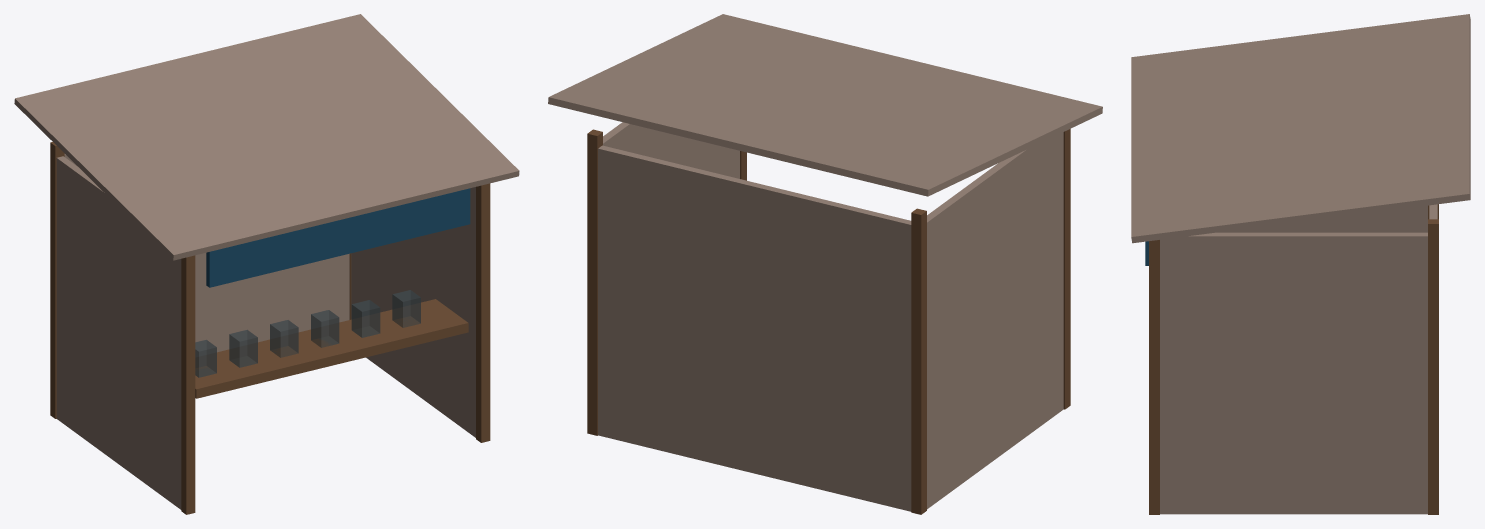
The model's file is KIT_SHED.glb.
The picture shows the model from 3 angles, left to right: view 1: azimuth 30°, elevation 25°; view 2: azimuth 150°, elevation 25°; view 3: azimuth 270°, elevation 25°; orthographic projection. The views are drawn at different scales.
Parts seen in each view (by area): view 1: KIT_SHED; view 2: KIT_SHED; view 3: KIT_SHED.
Boxes of the visible parts, x1=… form: KIT_SHED: x1=14, y1=14, x2=519, y2=514; KIT_SHED: x1=548, y1=14, x2=1102, y2=514; KIT_SHED: x1=1131, y1=14, x2=1470, y2=514.
Size of the model in its own units: 3.05 by 2.63 by 2.43.
